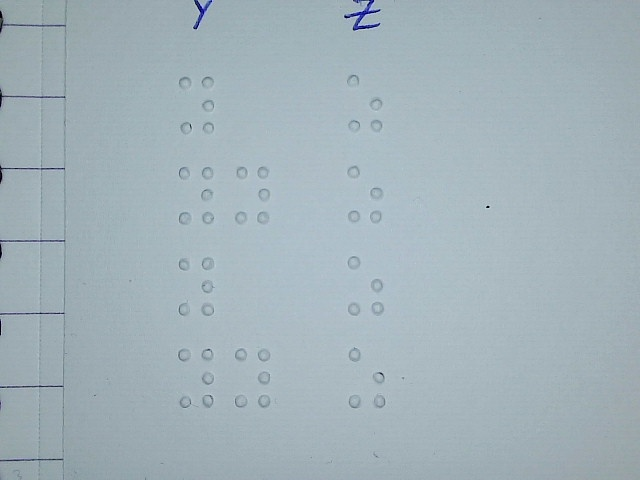Y: (177, 74, 216, 135), (177, 164, 216, 225), (233, 164, 272, 225), (176, 255, 215, 316), (234, 347, 273, 408)
Z: (347, 254, 386, 316), (348, 347, 387, 409), (345, 72, 384, 133), (346, 163, 385, 224)
